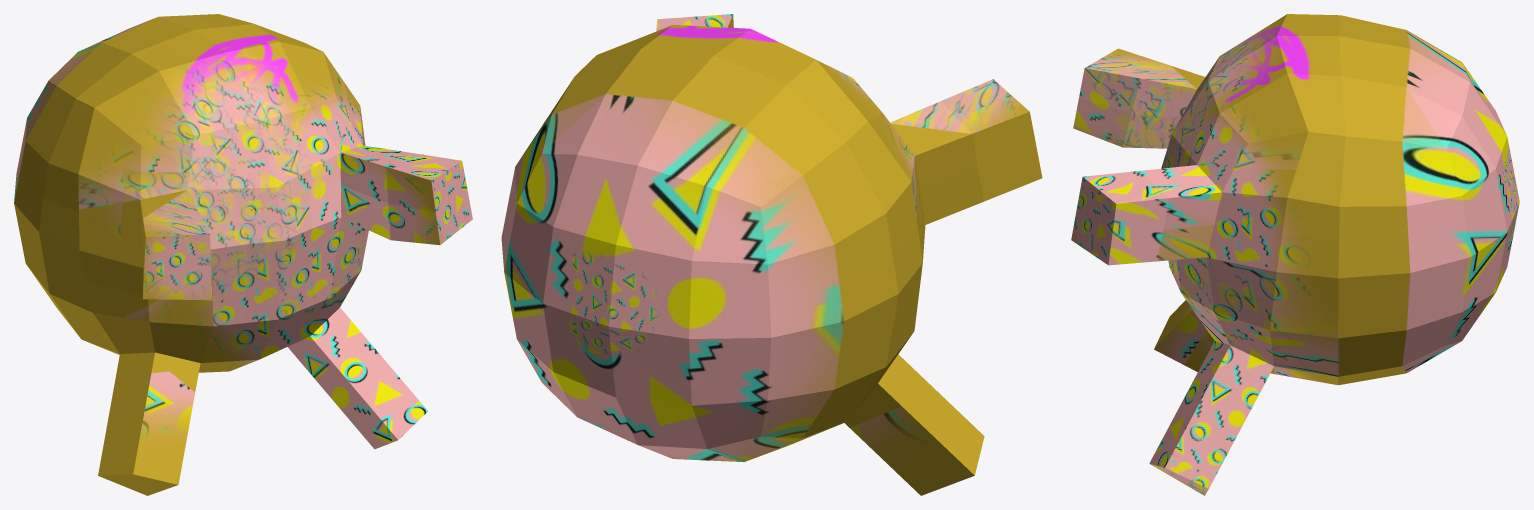
The model's file is Character.fbx.
3 renders of one model, left to right at view 1: azimuth 30°, elevation 25°; view 2: azimuth 150°, elevation 25°; view 3: azimuth 270°, elevation 25°, orthographic. The views are drawn at different scales.
Parts seen in each view (by area): view 1: Cube; view 2: Cube; view 3: Cube.
Part boxes in pixels (x1=…): Cube: x1=14, y1=14, x2=472, y2=495; Cube: x1=501, y1=14, x2=1042, y2=495; Cube: x1=1071, y1=14, x2=1519, y2=495.
Bounding box in the file's own units: 178 × 206 × 208.
